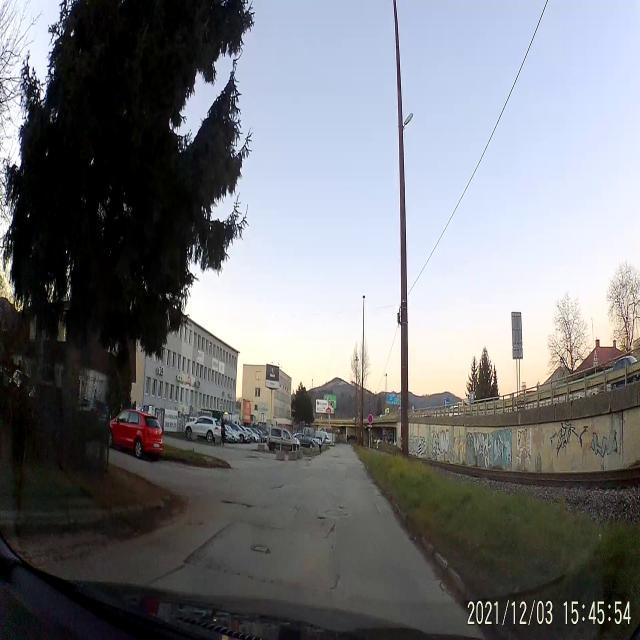Manhole: (324, 505, 348, 521)
Pothole: (220, 496, 254, 514), (250, 542, 270, 556), (317, 511, 329, 527), (326, 524, 338, 540), (269, 482, 285, 490)
